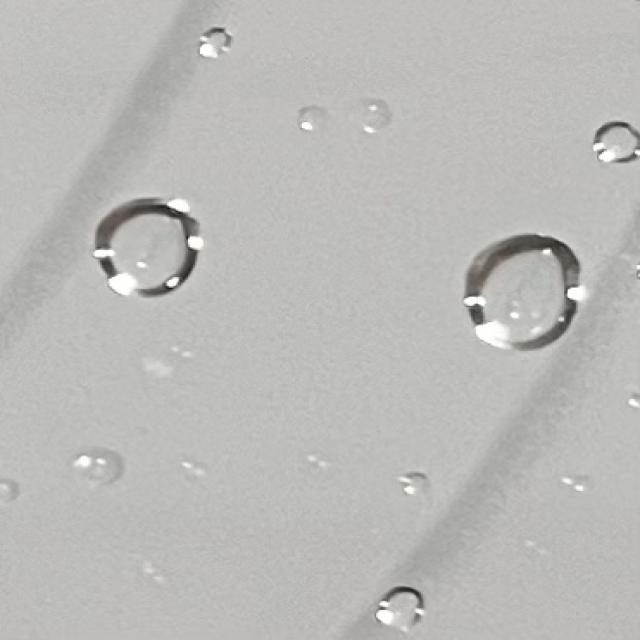raindrop: (463, 224, 599, 344), (108, 195, 231, 306), (181, 18, 250, 66), (68, 447, 134, 491), (394, 466, 462, 506), (371, 578, 429, 624), (585, 120, 640, 168), (542, 452, 592, 501), (276, 89, 325, 137), (354, 92, 396, 140)
